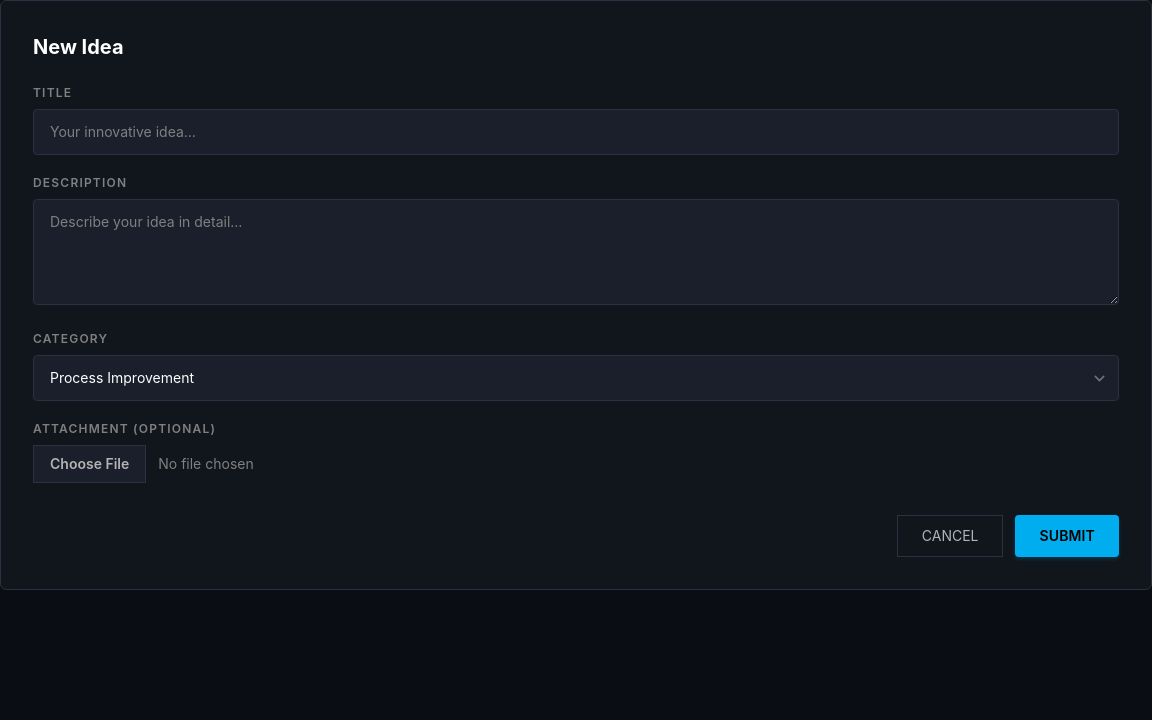
Test case: IdeaForm › shows validation error for empty title
Click the button "SUBMIT".
click(1067, 536)  # box [1016,515,1119,557]
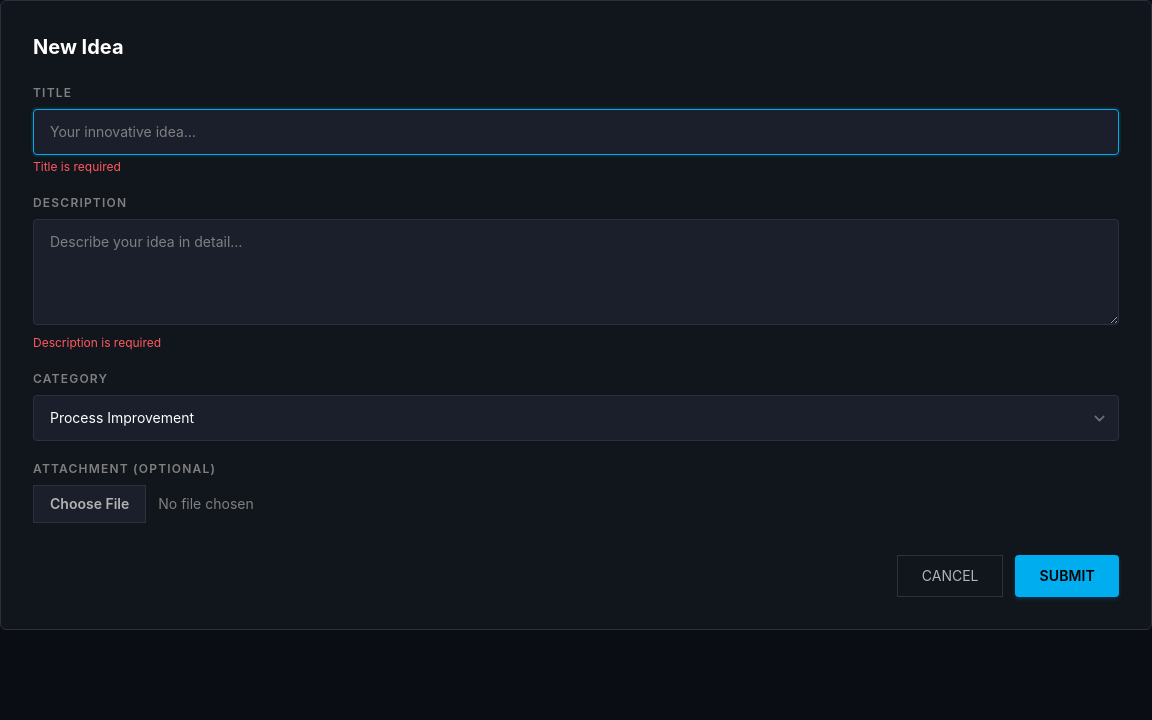
expect the text "Title is required" is shown: met, box [33,159,121,174]
